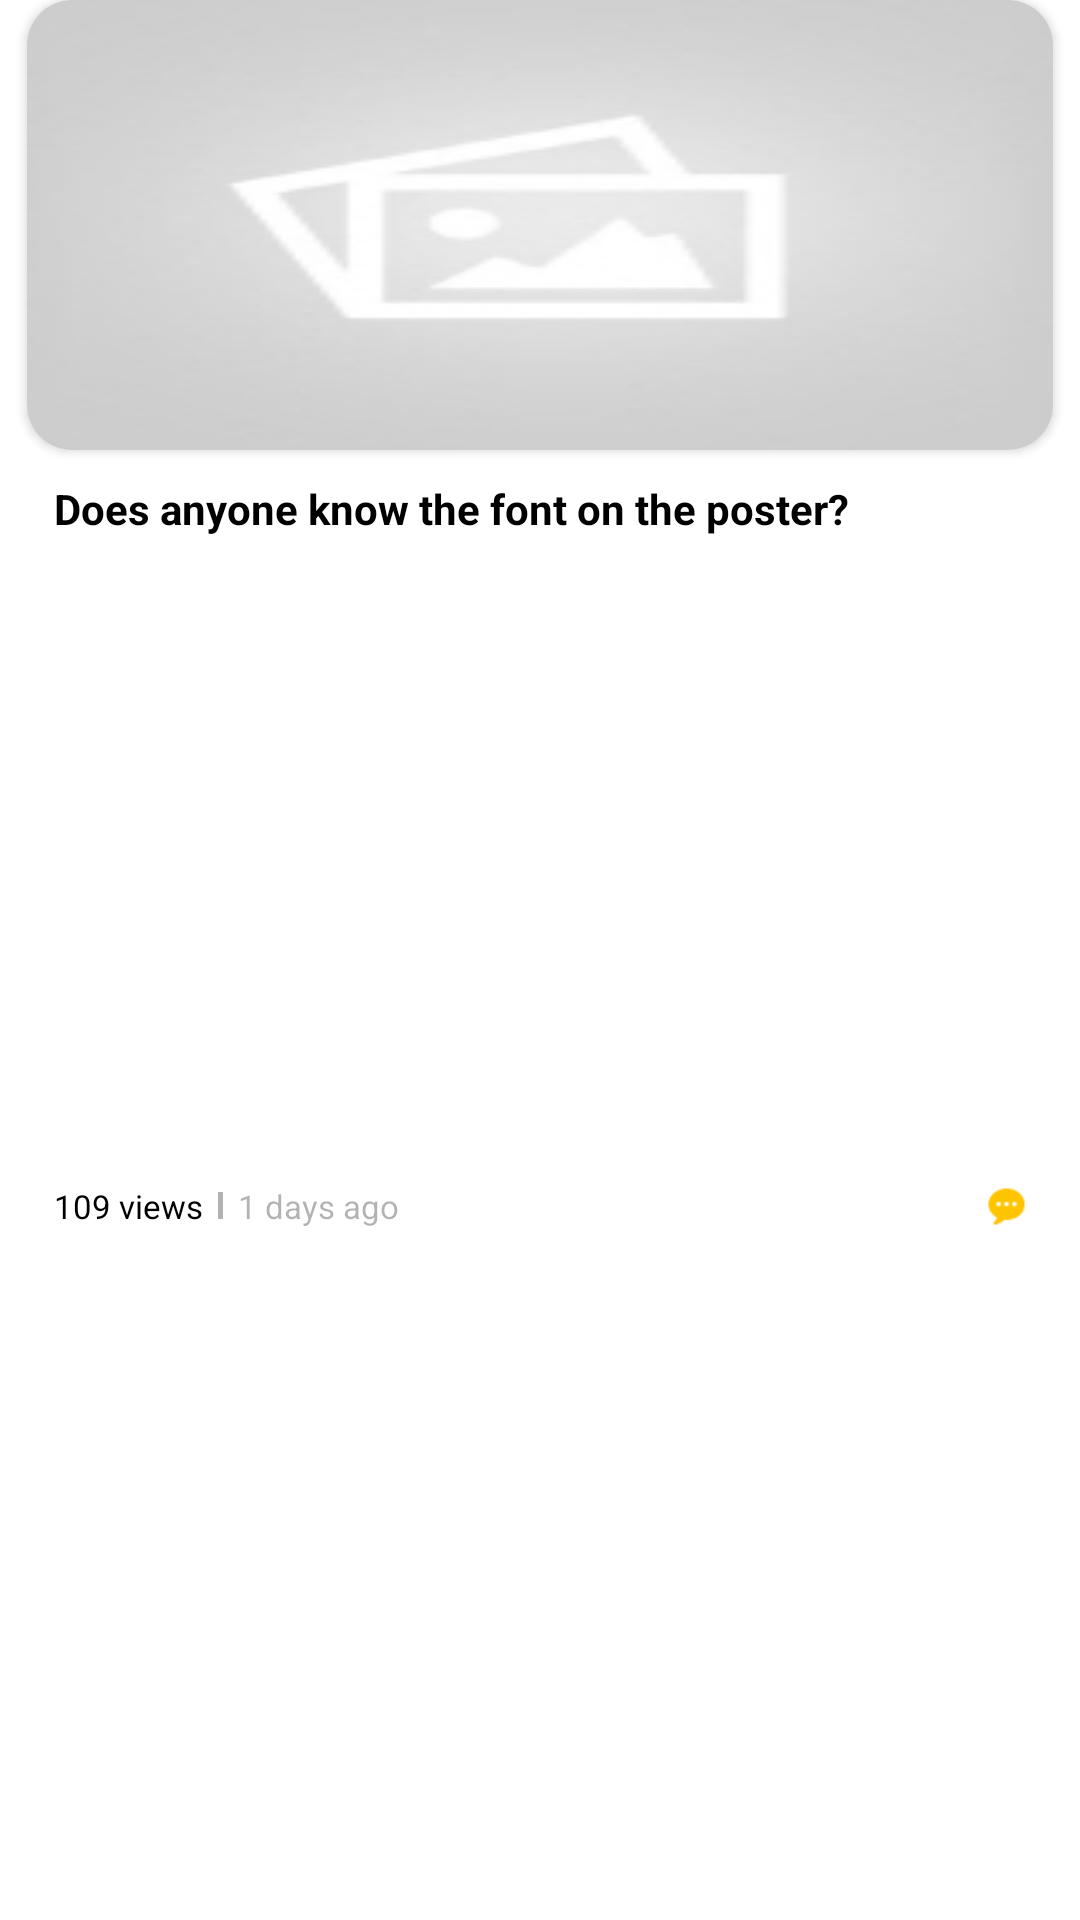

Screen size 1080×1920. Icon name, then its center in pixels as (x,y):
qna comment: (1006,1206)
